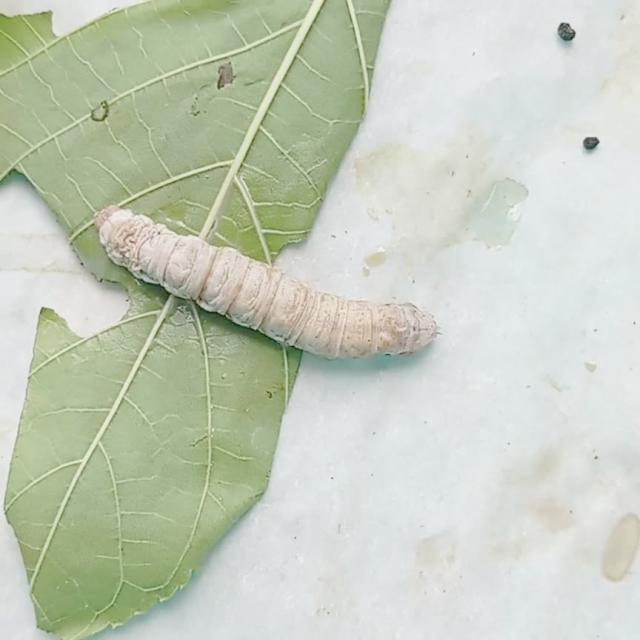Grasserie: (68, 144, 454, 404)
